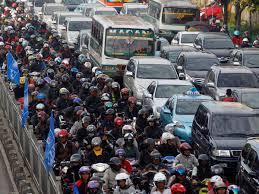helmet: (114, 173, 131, 189), (153, 172, 167, 189), (109, 156, 122, 172), (70, 153, 82, 170), (175, 167, 187, 184), (78, 166, 91, 181), (179, 142, 192, 156), (213, 181, 227, 194), (91, 136, 102, 151), (146, 114, 158, 127), (35, 103, 45, 118), (124, 132, 134, 147), (57, 130, 68, 143), (120, 88, 130, 100)
